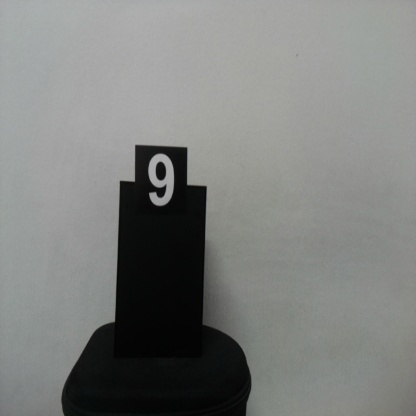id_9: (134, 146, 188, 229)
